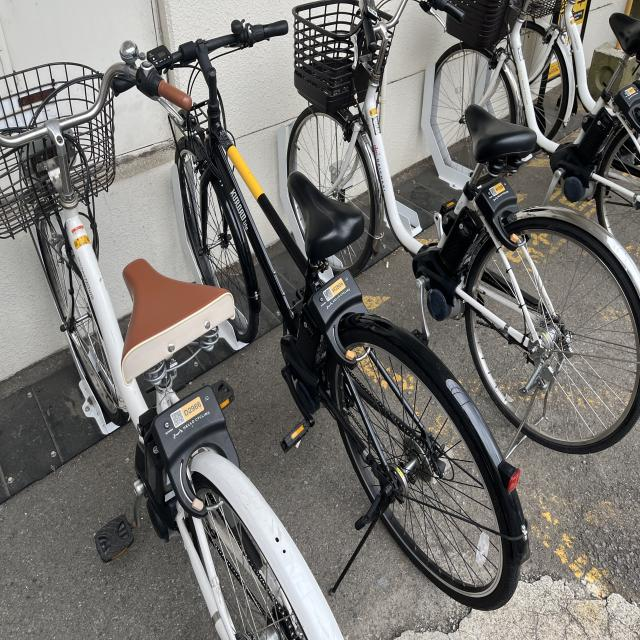basket: (287, 0, 398, 114)
battery: (437, 208, 485, 272), (293, 302, 328, 370), (140, 443, 173, 507), (578, 109, 614, 158)
